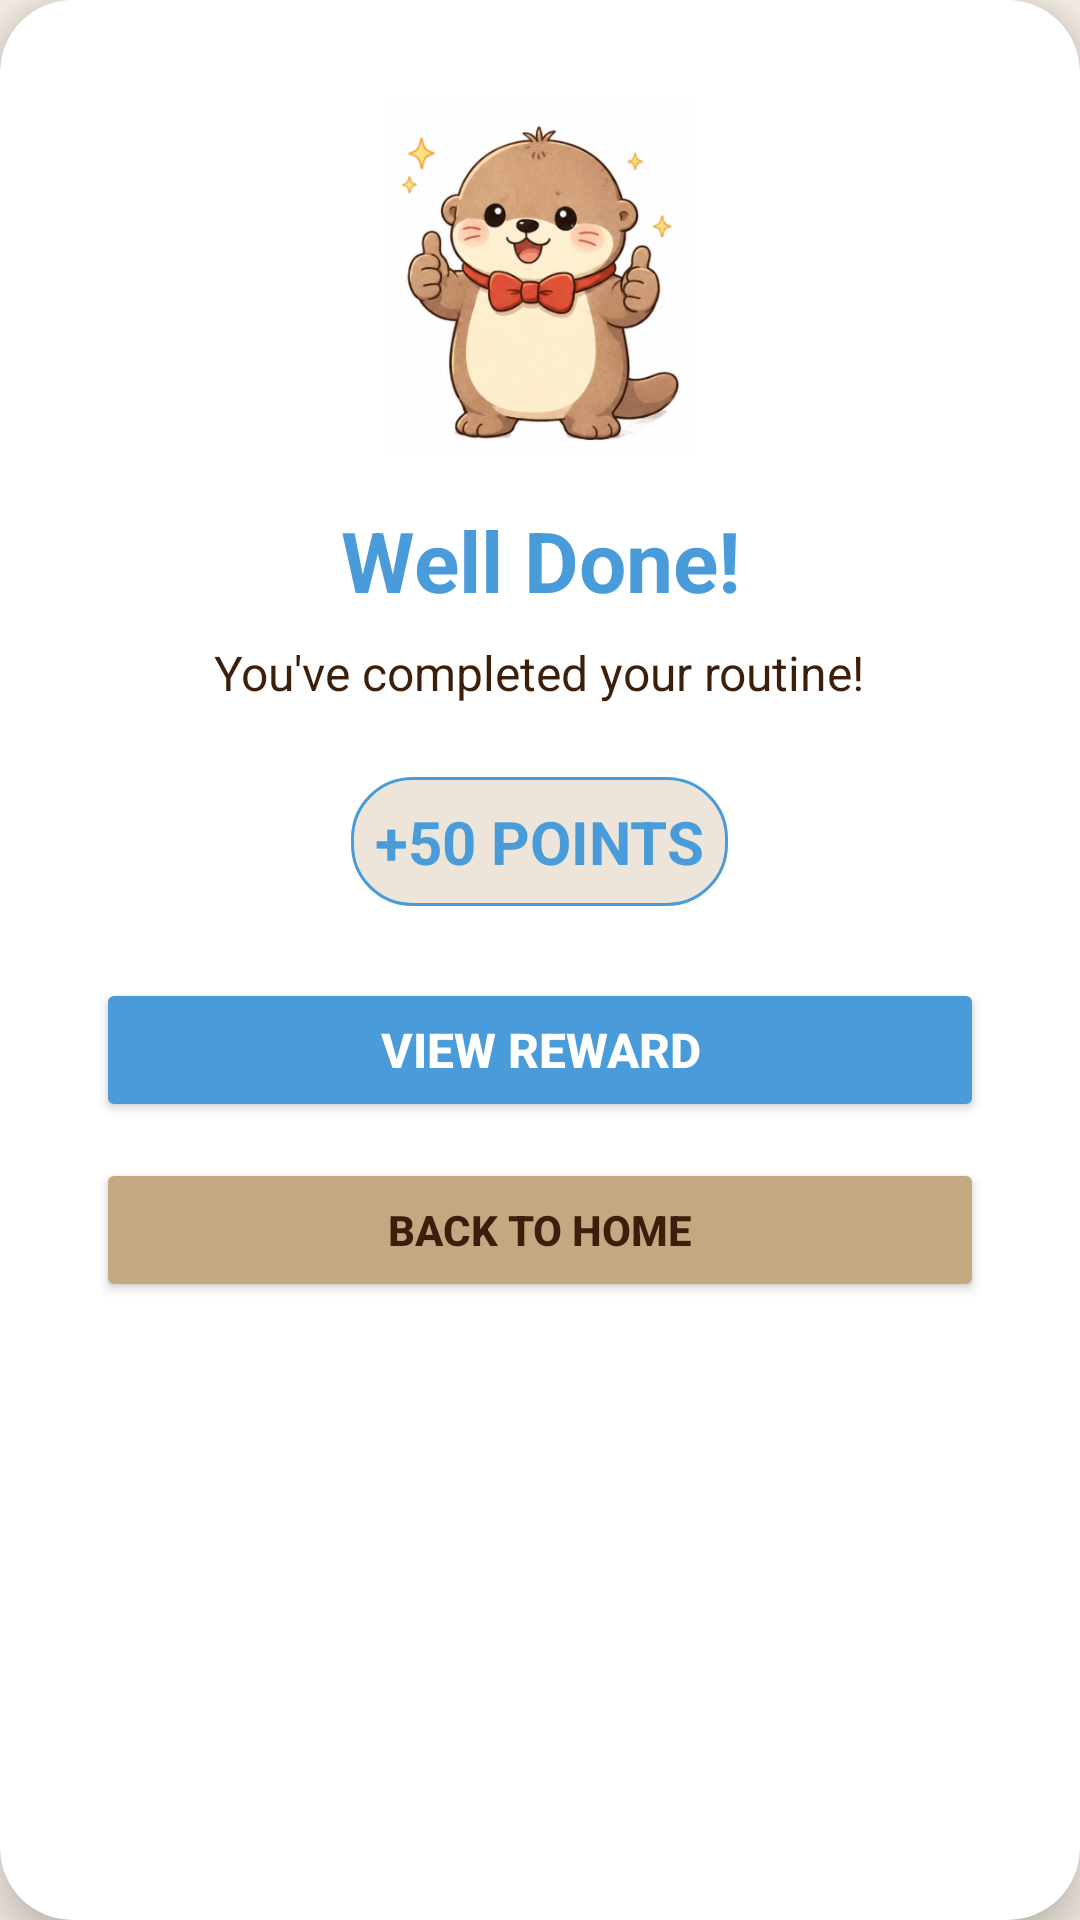

Icon click points for this 1080*1920 phone screenshot, format point (x, y):
otter happy: point (540, 283)
